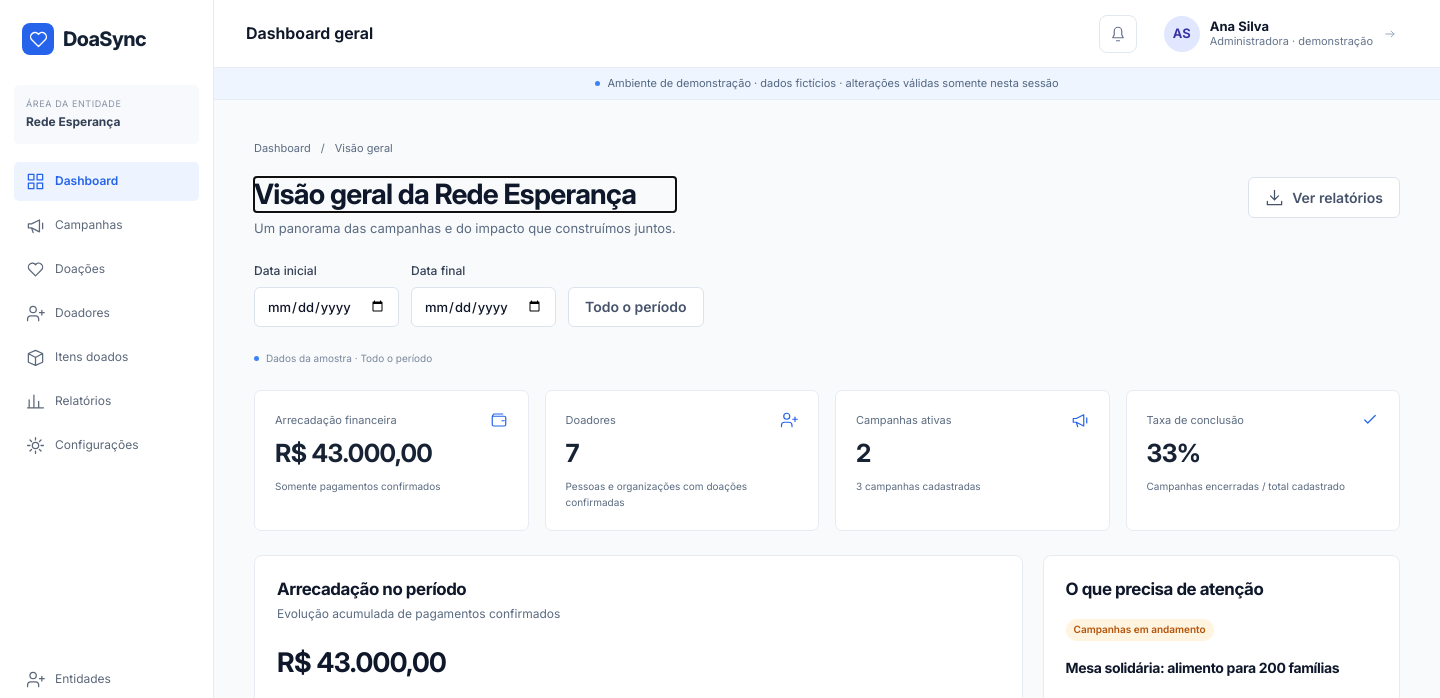
Test: Layout e componentes compartilhados › navega pelo menu de perfil com teclado e nomeia o diálogo de notificações
Expected: the heading "Visão geral da Rede Esperança" is shown, [254, 177, 676, 212]
Click the button with aria-label "Perfil do usuário e ações comuns" at (1280, 34), box [1153, 8, 1408, 58]
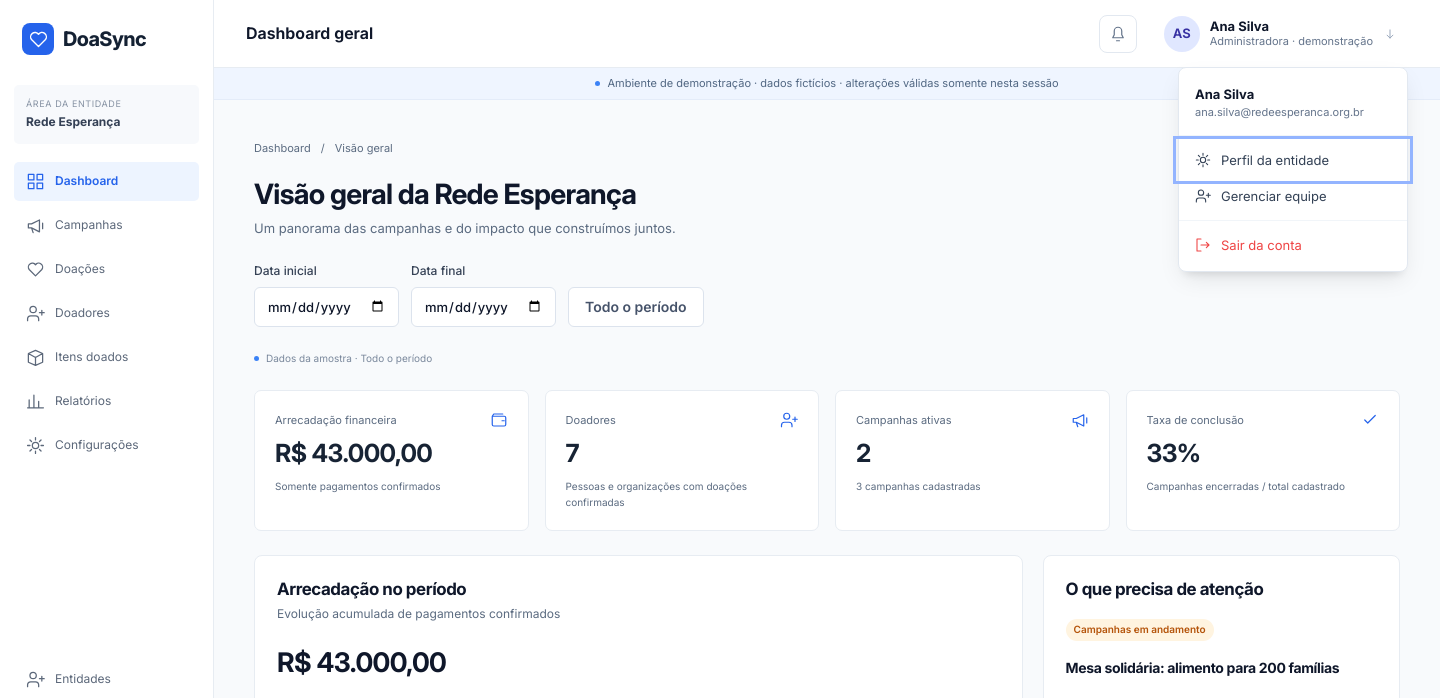
Press End
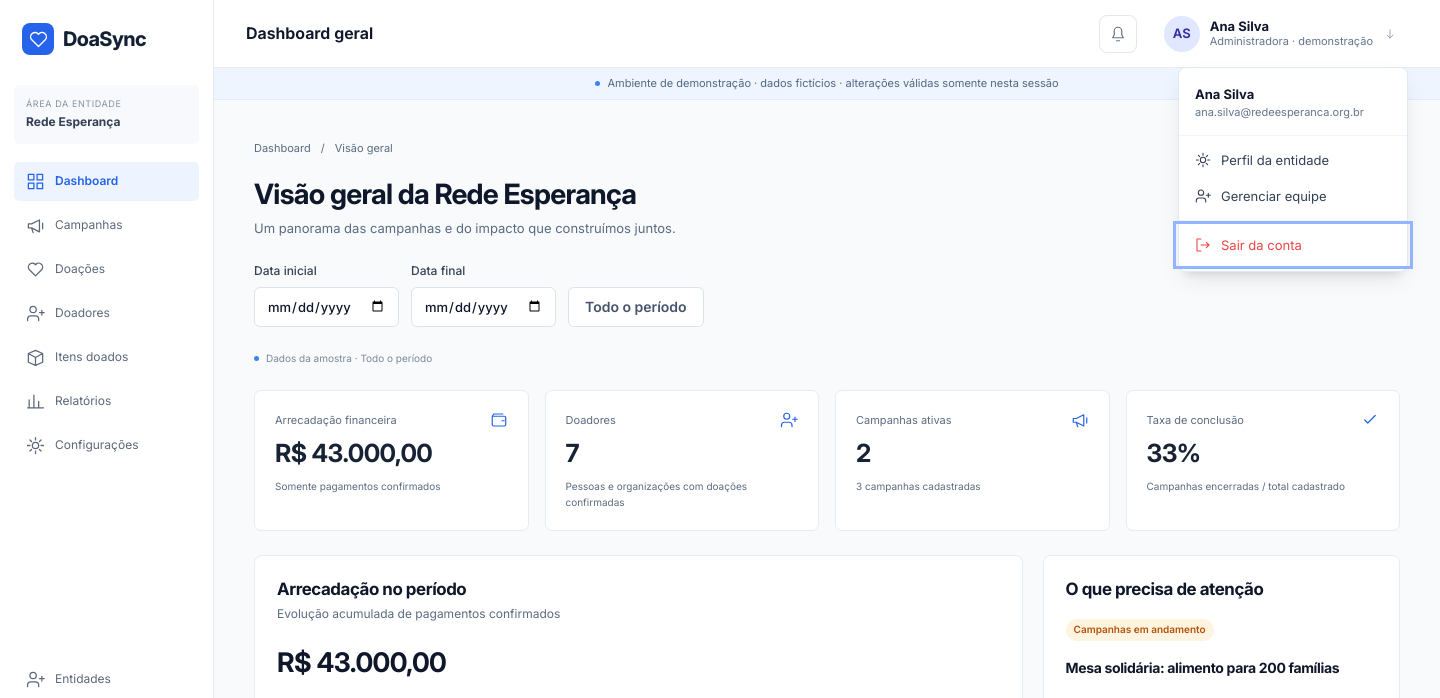
Press Arrowup
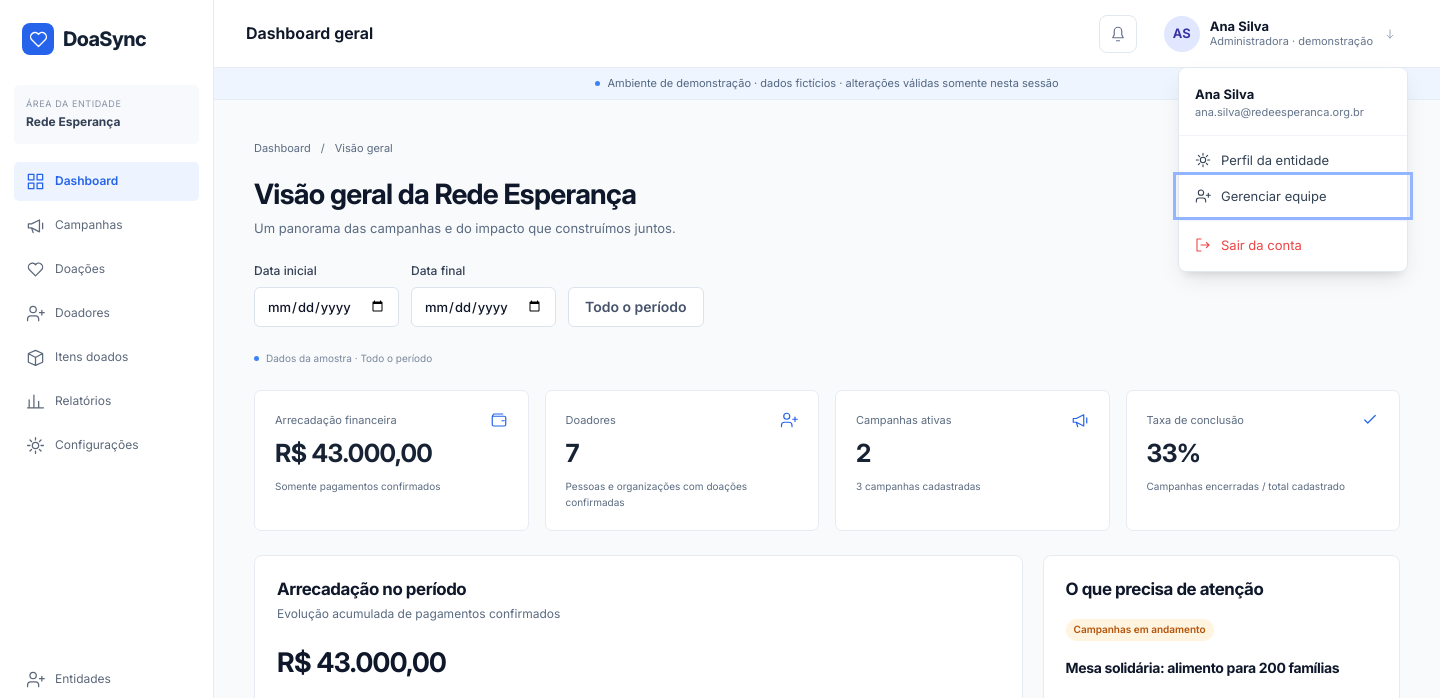
Press Escape
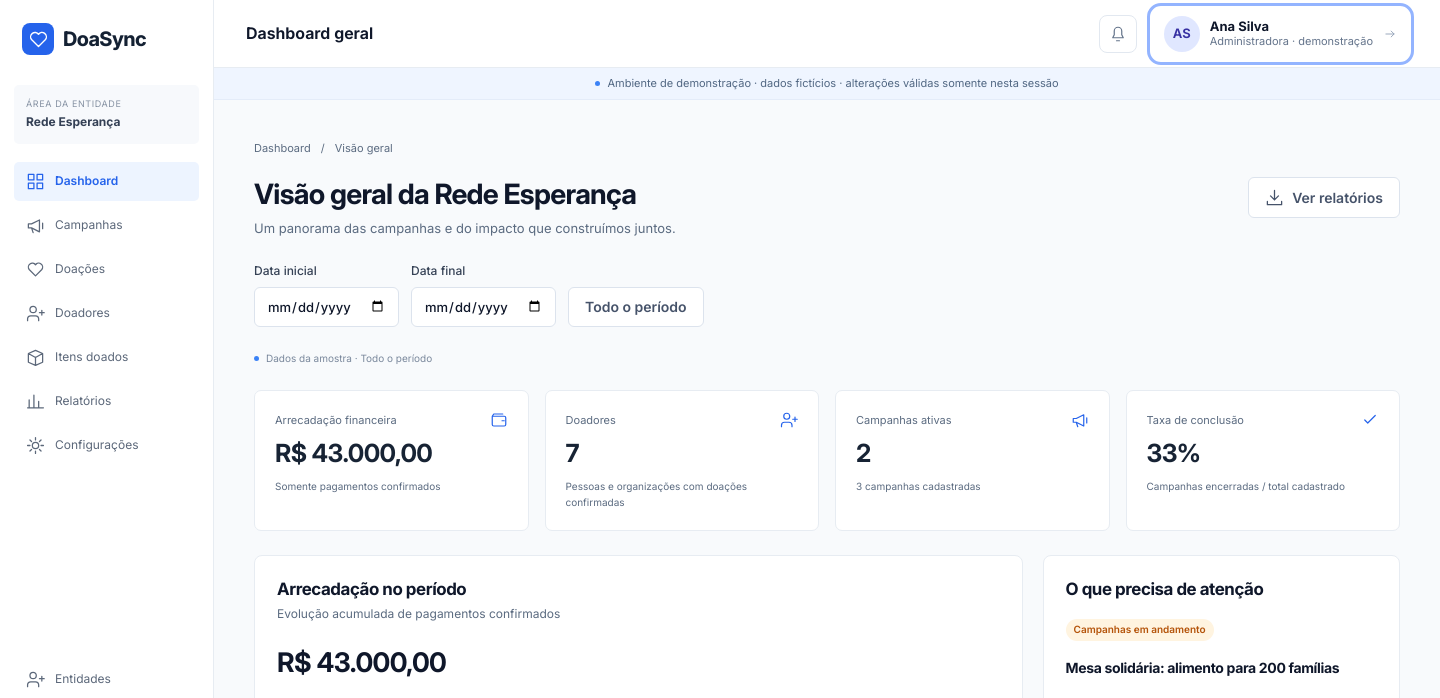
Click the button named "Notificações da entidade" at (1118, 34), box [1099, 14, 1137, 52]
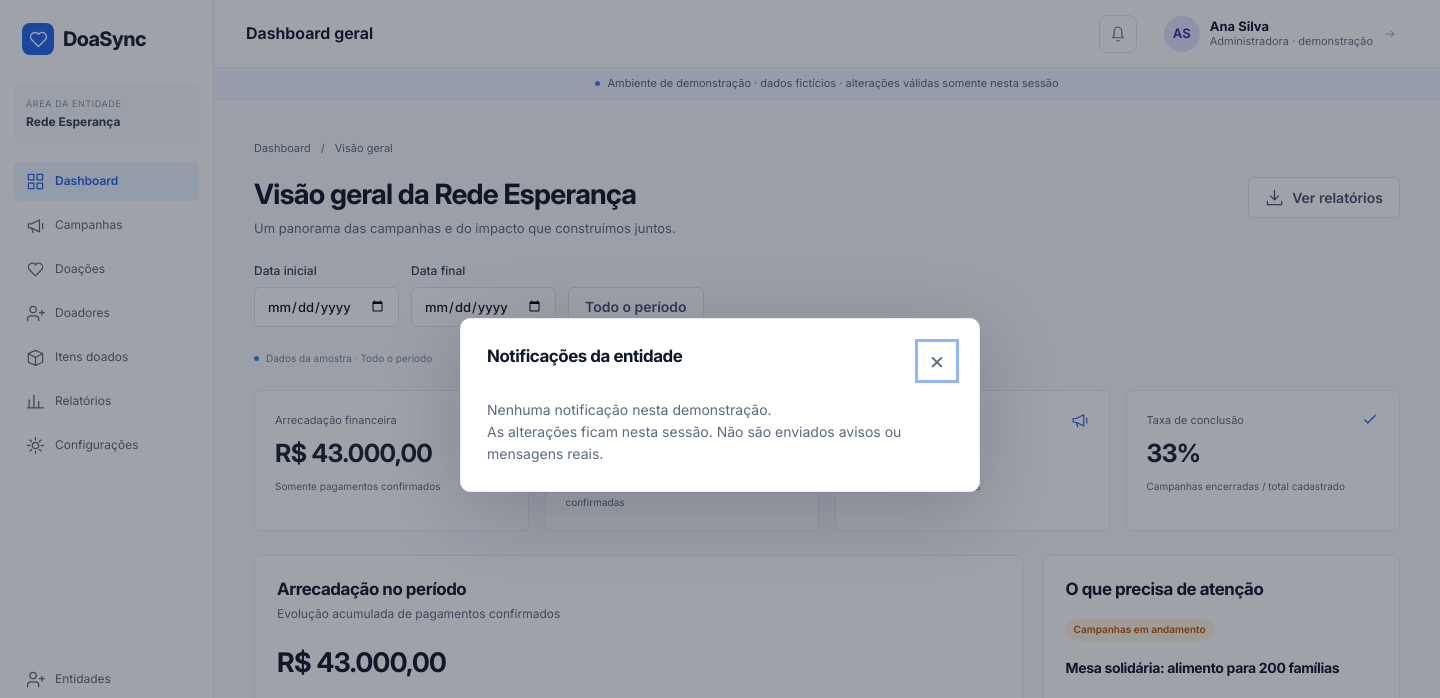
Expected: the dialog "Notificações da entidade" is shown, [460, 318, 980, 492]
Expected: the text "Nenhuma notificação nesta demonstração." is shown, [487, 402, 772, 418]
